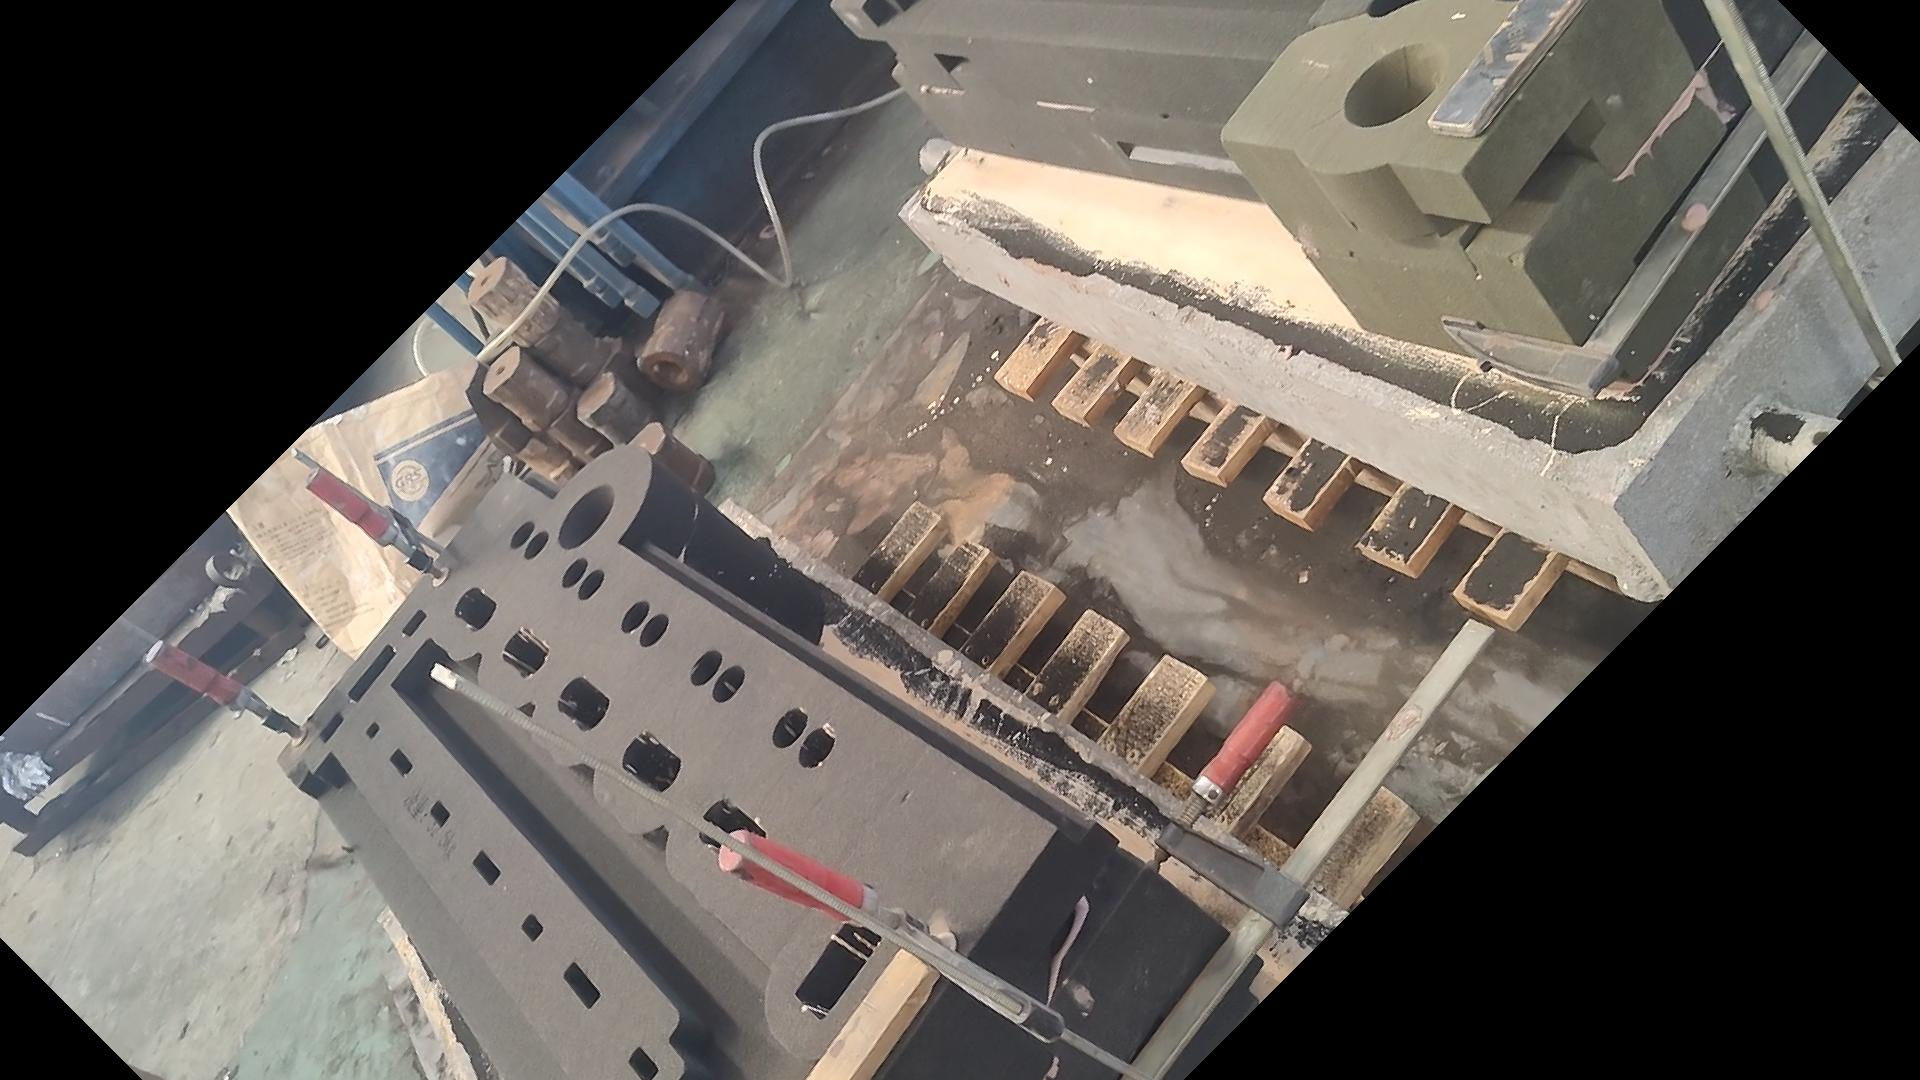pouring hole: (1344, 44, 1444, 128), (556, 483, 615, 549)
